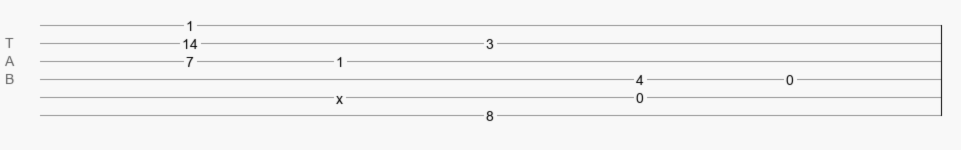0: (636, 90, 644, 100), (786, 72, 794, 82)
1: (186, 18, 194, 28), (336, 54, 344, 64)
14: (182, 36, 198, 46)
3: (486, 36, 494, 46)
4: (636, 72, 644, 82)
7: (186, 54, 194, 64)
8: (486, 108, 494, 118)
x: (336, 91, 343, 99)
